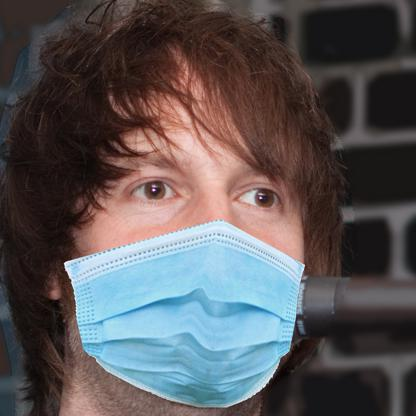mask: (61, 218, 310, 411)
